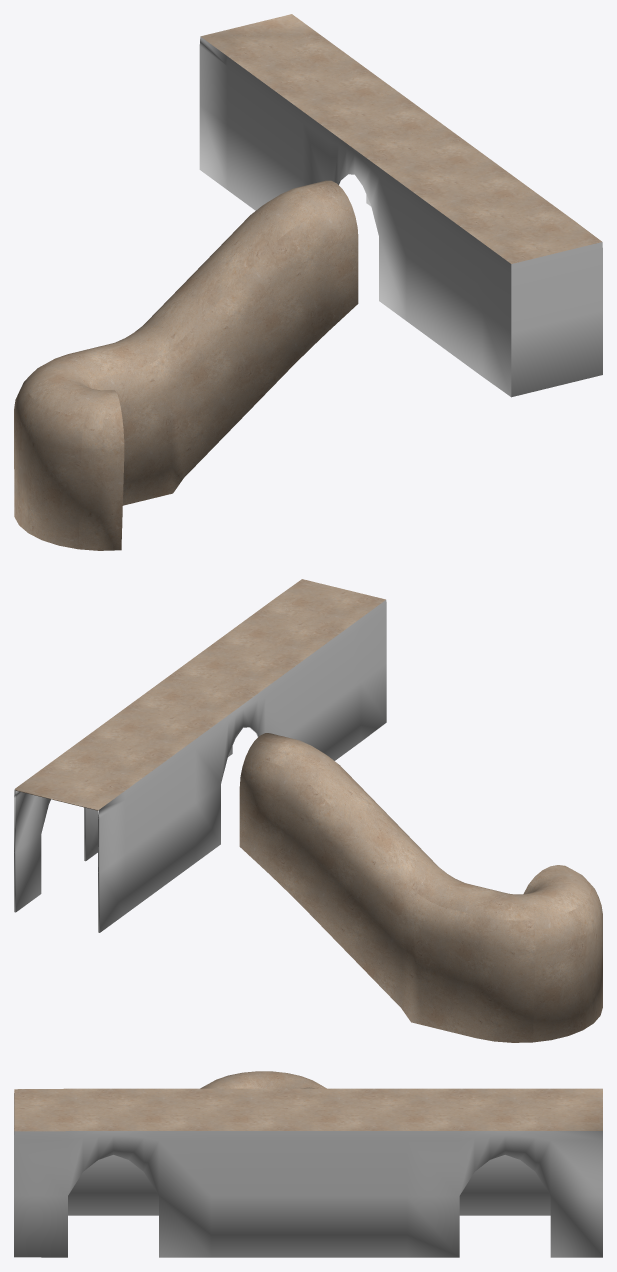
File: Corrdor.fbx
3 views of the same model, one above another, from view 1: azimuth 30°, elevation 25°; view 2: azimuth 150°, elevation 25°; view 3: azimuth 270°, elevation 25° (orthographic). The views are drawn at different scales.
Parts seen in each view (by area): view 1: Couloir; view 2: Couloir; view 3: Couloir.
Boxes of the visible parts, bbox=[...] form: Couloir: bbox=[14, 14, 602, 550]; Couloir: bbox=[14, 579, 602, 1042]; Couloir: bbox=[14, 1071, 602, 1257].
Bounding box in the file's own units: 1644 × 980 × 1988.
